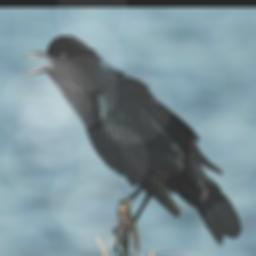Crow: (23, 35, 241, 254)
